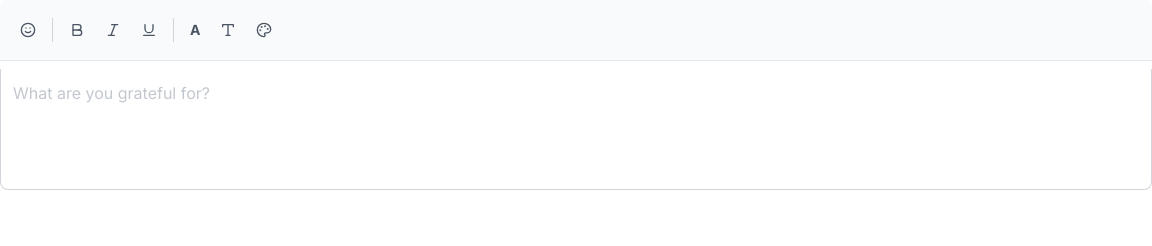
Test: RichTextEditor Responsive Toolbar › provides keyboard navigation for text size picker
Step 1. Click the button titled "Text Size" → click(195, 30), box [182,12,208,48]
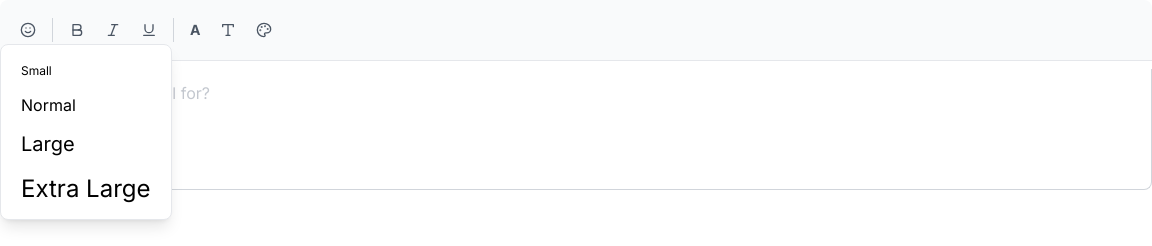
Should be clickable (simulating keyboard activation)
Step 2. Click the button "Small" → click(86, 69), box [9,53,162,85]
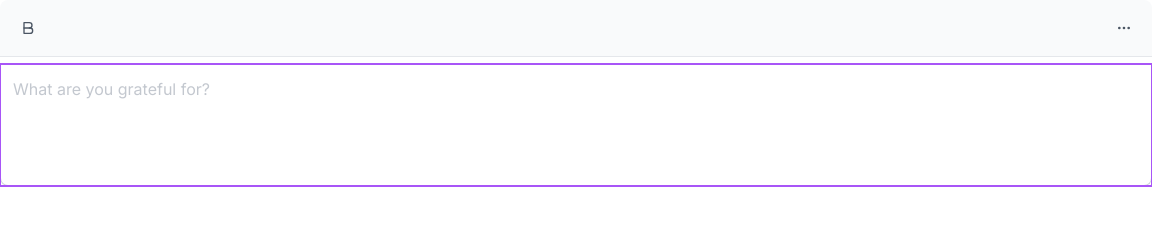
Check: the button "Small" is gone
